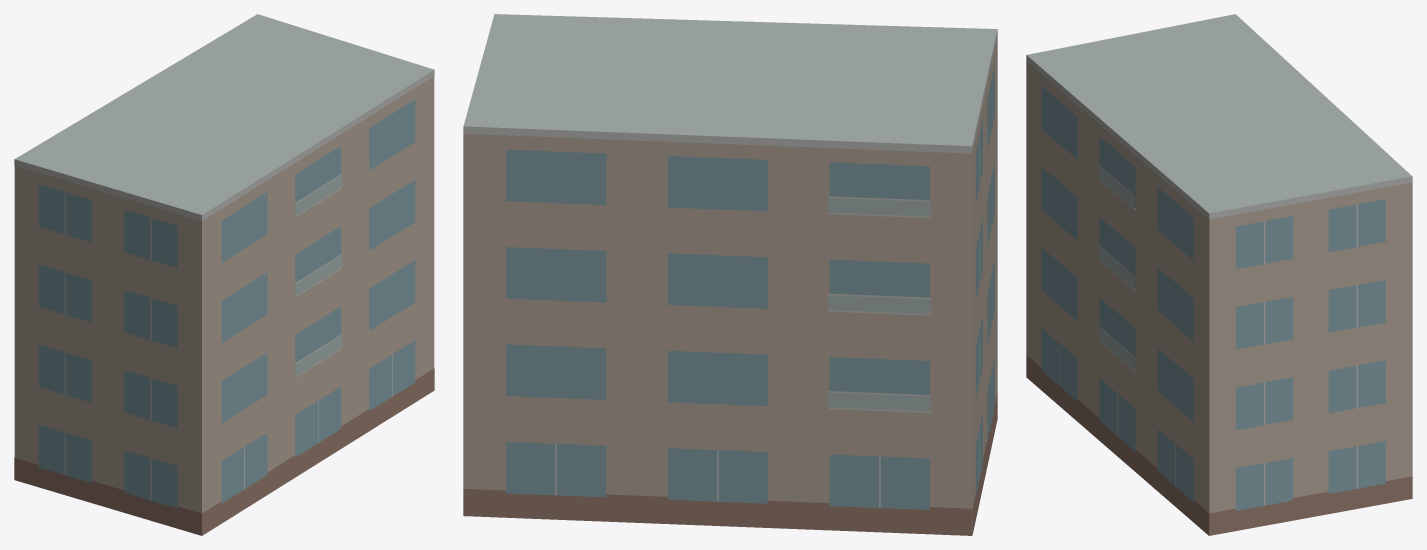
File: survey-upis-32704770.glb
3 renders of one model, left to right at view 1: azimuth 30°, elevation 25°; view 2: azimuth 150°, elevation 25°; view 3: azimuth 270°, elevation 25°, orthographic. The views are drawn at different scales.
Parts seen in each view (by area): view 1: survey-upis-32704770.tmp; view 2: survey-upis-32704770.tmp; view 3: survey-upis-32704770.tmp.
Boxes of the visible parts, x1,y1,x2,y2 form: survey-upis-32704770.tmp: (14,14,434,535); survey-upis-32704770.tmp: (463,14,997,535); survey-upis-32704770.tmp: (1026,14,1412,535).
Bounding box in the file's own units: 16.99 × 12.8 × 13.9.
